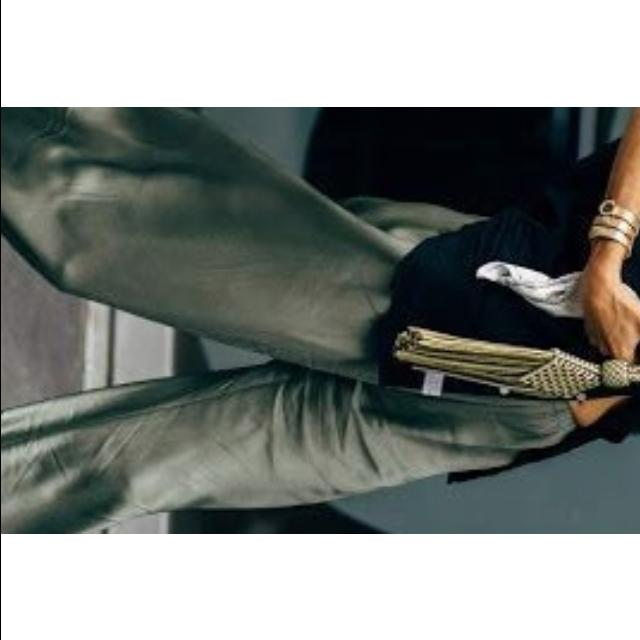silk: (1, 106, 390, 534)
